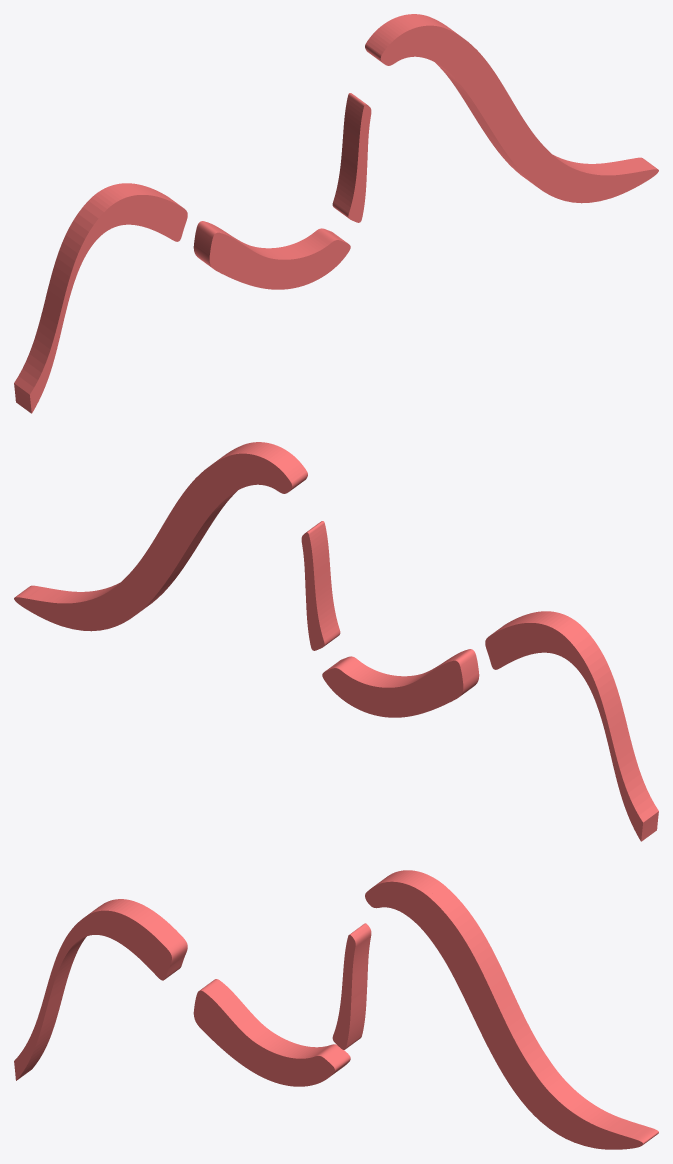
File: group_17_24_23_18_animated_root.glb
3 views of the same model, one above another, from view 1: azimuth 30°, elevation 25°; view 2: azimuth 150°, elevation 25°; view 3: azimuth 330°, elevation 25° (orthographic).
Parts seen in each view (by area): view 1: shape_03, shape_00, shape_01, shape_02; view 2: shape_03, shape_00, shape_01, shape_02; view 3: shape_03, shape_00, shape_01, shape_02.
Boxes of the visible parts, left/top/right/bottom form: shape_03: left=365, top=14, right=658, bottom=203; shape_00: left=14, top=183, right=187, bottom=413; shape_01: left=193, top=221, right=350, bottom=289; shape_02: left=332, top=93, right=371, bottom=222; shape_03: left=14, top=442, right=307, bottom=631; shape_00: left=485, top=611, right=658, bottom=841; shape_01: left=322, top=649, right=479, bottom=717; shape_02: left=301, top=521, right=340, bottom=650; shape_03: left=365, top=870, right=658, bottom=1149; shape_00: left=14, top=899, right=187, bottom=1080; shape_01: left=193, top=979, right=350, bottom=1086; shape_02: left=332, top=923, right=371, bottom=1049.
Size of the model in its own units: 6.9 by 3.06 by 0.3.
